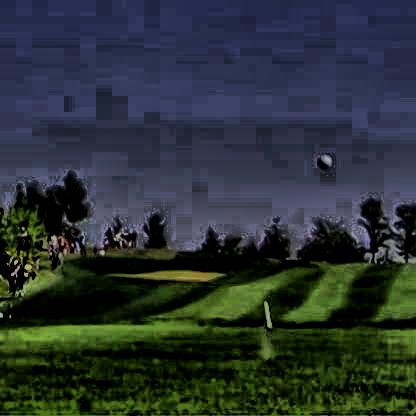golfball: (315, 151, 330, 168)
